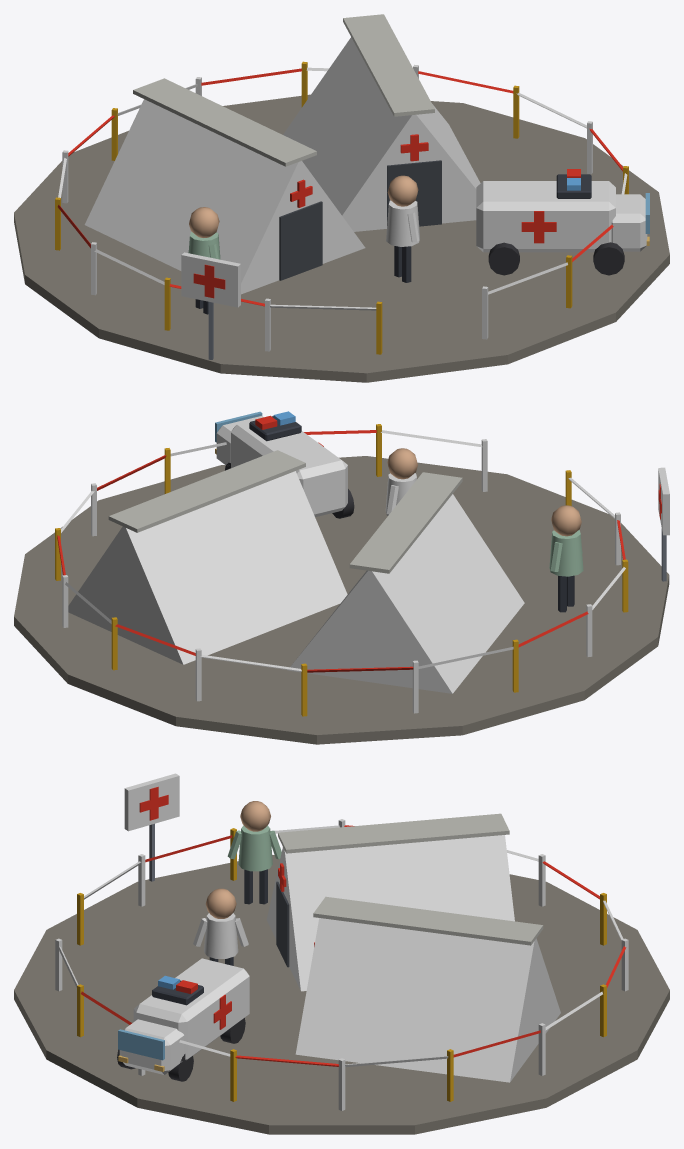
Rendered from quarantine.fbx.
3 renders of one model, top to bottom at view 1: azimuth 30°, elevation 25°; view 2: azimuth 150°, elevation 25°; view 3: azimuth 270°, elevation 25°, orthographic.
Visible parts, largest first — view 1: quarantine; view 2: quarantine; view 3: quarantine.
Part boxes in pixels (x1,y1,x2,y2): quarantine: (14,14,669,382); quarantine: (14,411,669,744); quarantine: (14,773,669,1134).
Size of the model in its own units: 1.85 by 0.396 by 1.9.
